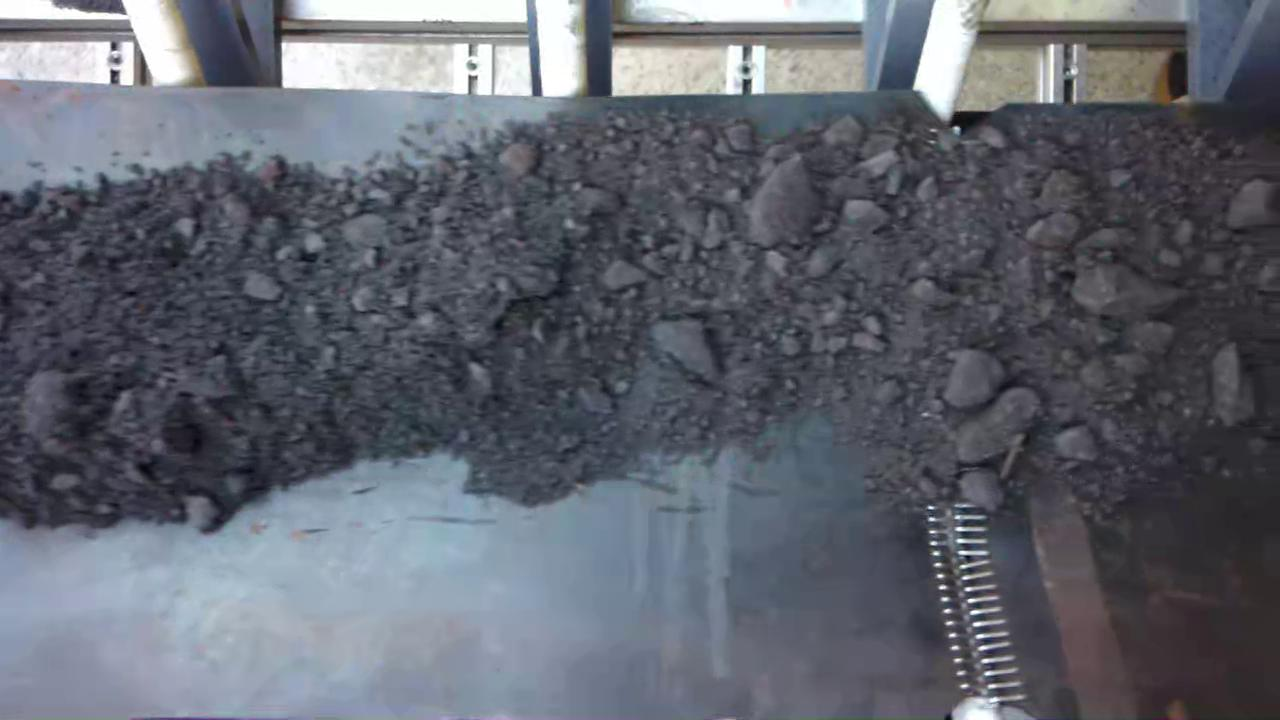conveyor: (2, 103, 1280, 720)
